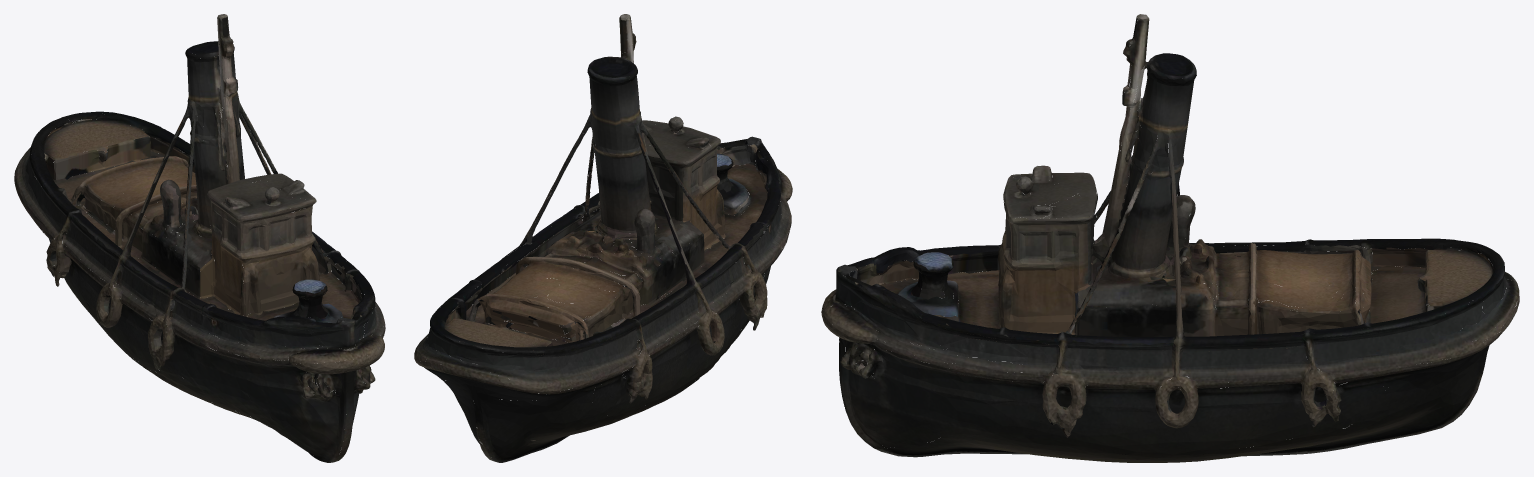
File: harbour_tug.glb
3 renders of one model, left to right at view 1: azimuth 30°, elevation 25°; view 2: azimuth 150°, elevation 25°; view 3: azimuth 270°, elevation 25°, orthographic. The views are drawn at different scales.
Visible parts, largest first — view 1: HullBody; view 2: HullBody; view 3: HullBody.
Boxes of the visible parts, bbox=[...] form: HullBody: bbox=[14, 14, 385, 462]; HullBody: bbox=[414, 14, 792, 462]; HullBody: bbox=[821, 14, 1519, 462].
Size of the model in its own units: 9.22 by 15.32 by 22.
Materials: 1 (1 with a texture image).
